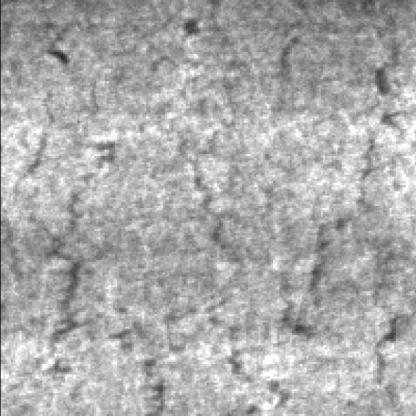crazing: (264, 33, 412, 406), (156, 131, 347, 374), (6, 73, 112, 381)
